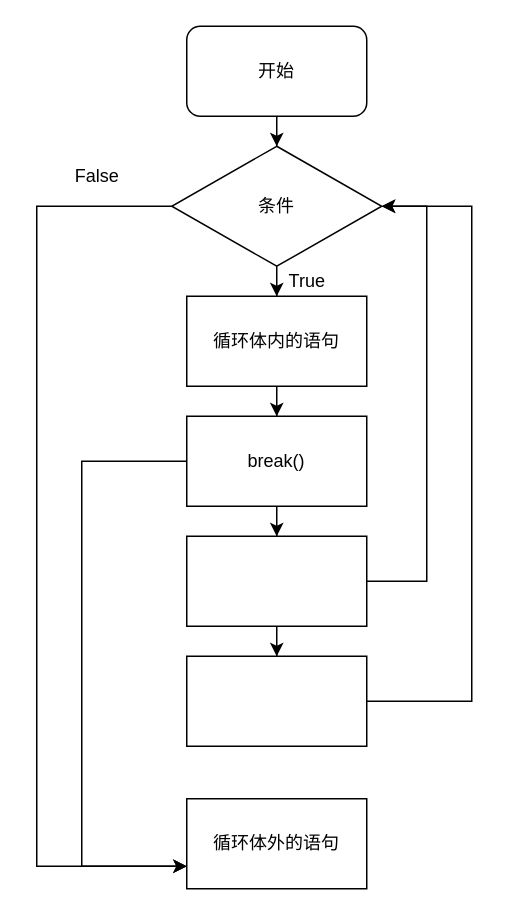
This 510x915 diagram has some shape labels left out. Here are the shapes that lost their labels. From the top down, the centre of each, then its label:
[276,580]: continue()
[276,700]: 循环体内中的语句
